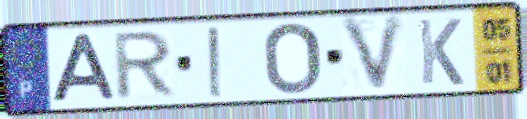A: (49, 31, 121, 105)
I: (204, 24, 227, 100)
K: (415, 16, 466, 88)
O: (261, 20, 323, 97)
R: (112, 28, 179, 103)
V: (336, 11, 410, 98)
